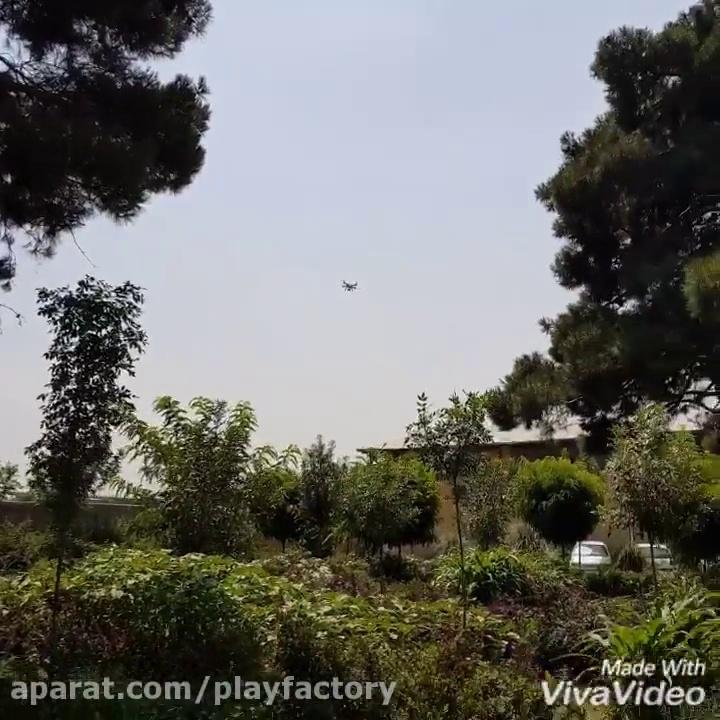drone: (333, 270, 365, 299)
